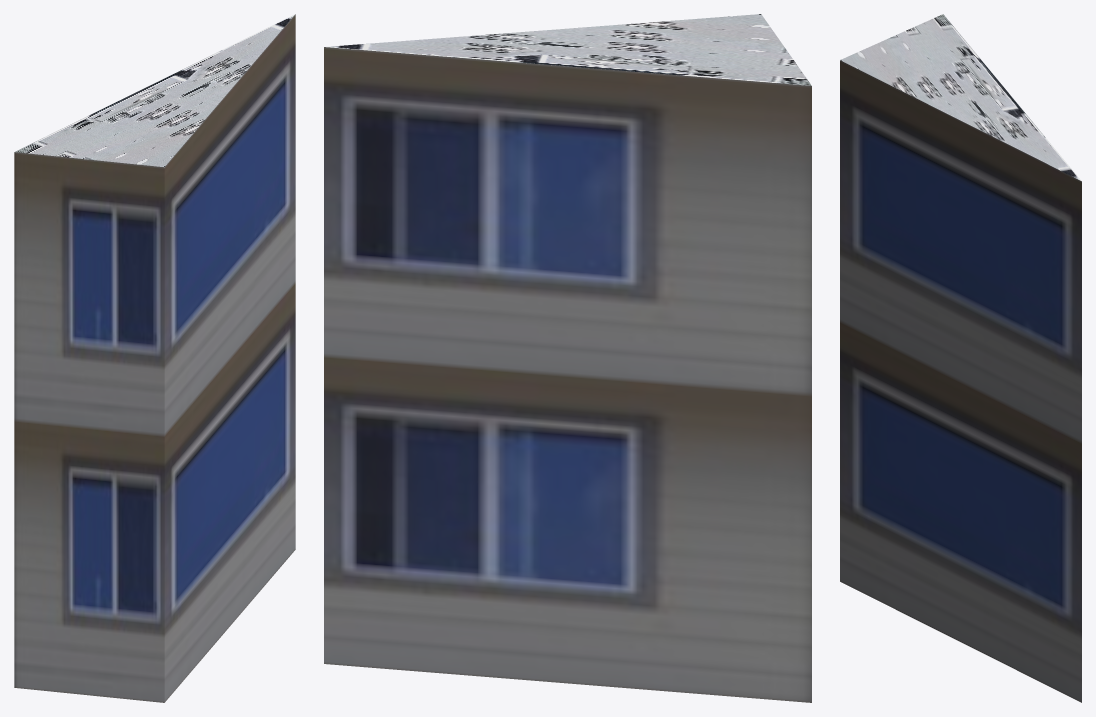
The model's file is ResTex__3566.fbx.
The picture shows the model from 3 angles, left to right: view 1: azimuth 30°, elevation 25°; view 2: azimuth 150°, elevation 25°; view 3: azimuth 270°, elevation 25°; orthographic projection. The views are drawn at different scales.
Visible parts, largest first — view 1: CityEngineMaterial_23_m, CityEngineMaterial_4_m; view 2: CityEngineMaterial_23_m, CityEngineMaterial_4_m; view 3: CityEngineMaterial_23_m, CityEngineMaterial_4_m.
Part boxes in pixels (bbox=[...]): CityEngineMaterial_23_m: bbox=[14, 14, 295, 702]; CityEngineMaterial_4_m: bbox=[15, 14, 294, 167]; CityEngineMaterial_23_m: bbox=[324, 47, 811, 702]; CityEngineMaterial_4_m: bbox=[326, 14, 811, 85]; CityEngineMaterial_23_m: bbox=[840, 60, 1081, 702]; CityEngineMaterial_4_m: bbox=[840, 14, 1081, 180].
Size of the model in its own units: 4.13 by 6 by 2.52.
2 materials, 2 textured.
